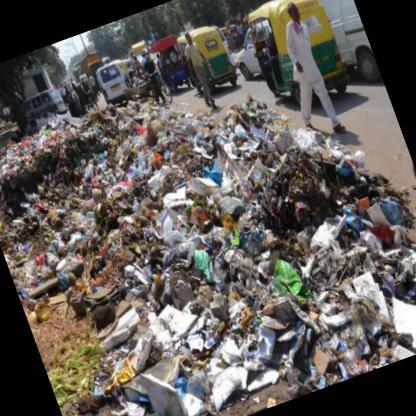Garbage: (163, 155, 341, 375), (150, 104, 314, 319), (136, 235, 302, 400), (6, 120, 164, 284), (310, 207, 415, 375)
